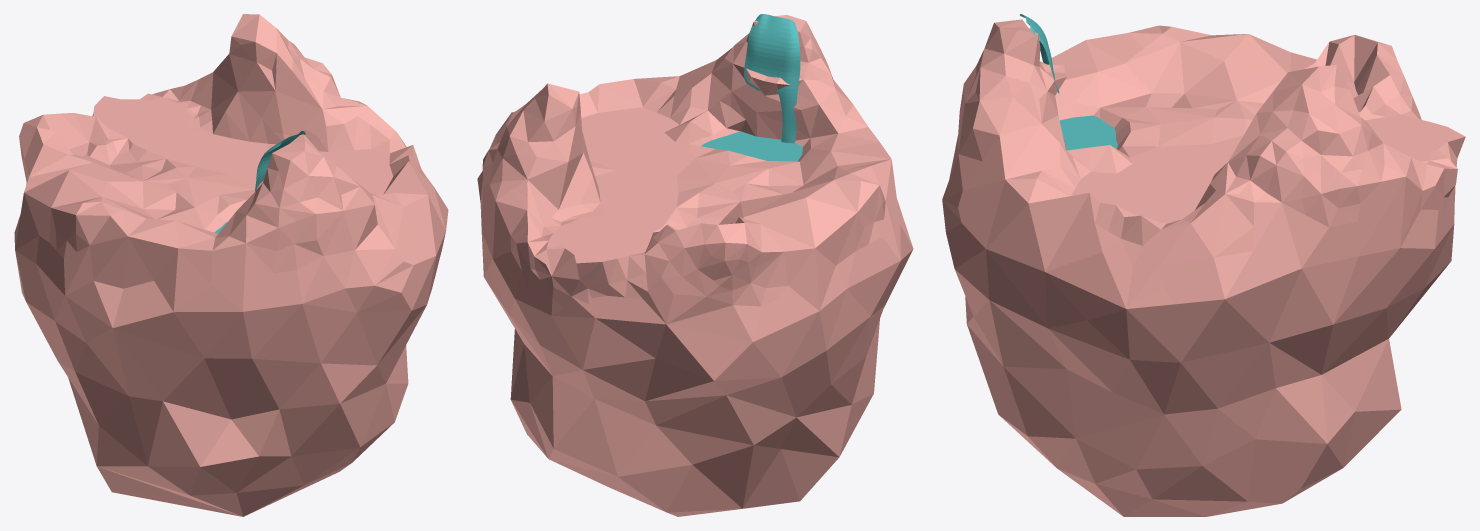
The model's file is newLevelt.fbx.
3 renders of one model, left to right at view 1: azimuth 30°, elevation 25°; view 2: azimuth 150°, elevation 25°; view 3: azimuth 270°, elevation 25°, orthographic. The views are drawn at different scales.
Parts seen in each view (by area): view 1: Plane.001, Plane.003; view 2: Plane.001, Plane.003, Plane.004; view 3: Plane.001, Plane.004.
Boxes of the visible parts, x1=… form: Plane.001: x1=14, y1=14, x2=448, y2=516; Plane.003: x1=254, y1=131, x2=305, y2=191; Plane.001: x1=477, y1=15, x2=913, y2=516; Plane.003: x1=744, y1=14, x2=800, y2=143; Plane.004: x1=701, y1=131, x2=802, y2=161; Plane.001: x1=942, y1=19, x2=1465, y2=516; Plane.004: x1=1059, y1=115, x2=1117, y2=150.
Size of the model in its own units: 19433 by 20901 by 20261.
